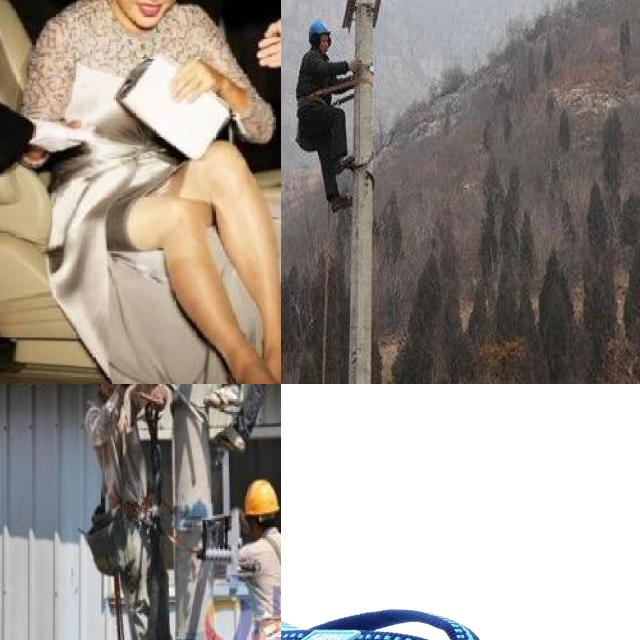face_nomask: (122, 0, 176, 28), (318, 34, 331, 56)
hand_glove: (26, 117, 95, 153), (342, 56, 362, 73)
hand_noglove: (170, 56, 218, 104), (255, 14, 281, 68)
head_helmet: (240, 477, 281, 521), (307, 18, 333, 37)
person: (30, 0, 281, 384), (84, 384, 190, 640), (290, 18, 368, 216), (215, 476, 281, 640)
shoes: (215, 418, 249, 452), (203, 384, 242, 411), (327, 192, 356, 216), (332, 152, 356, 175)
